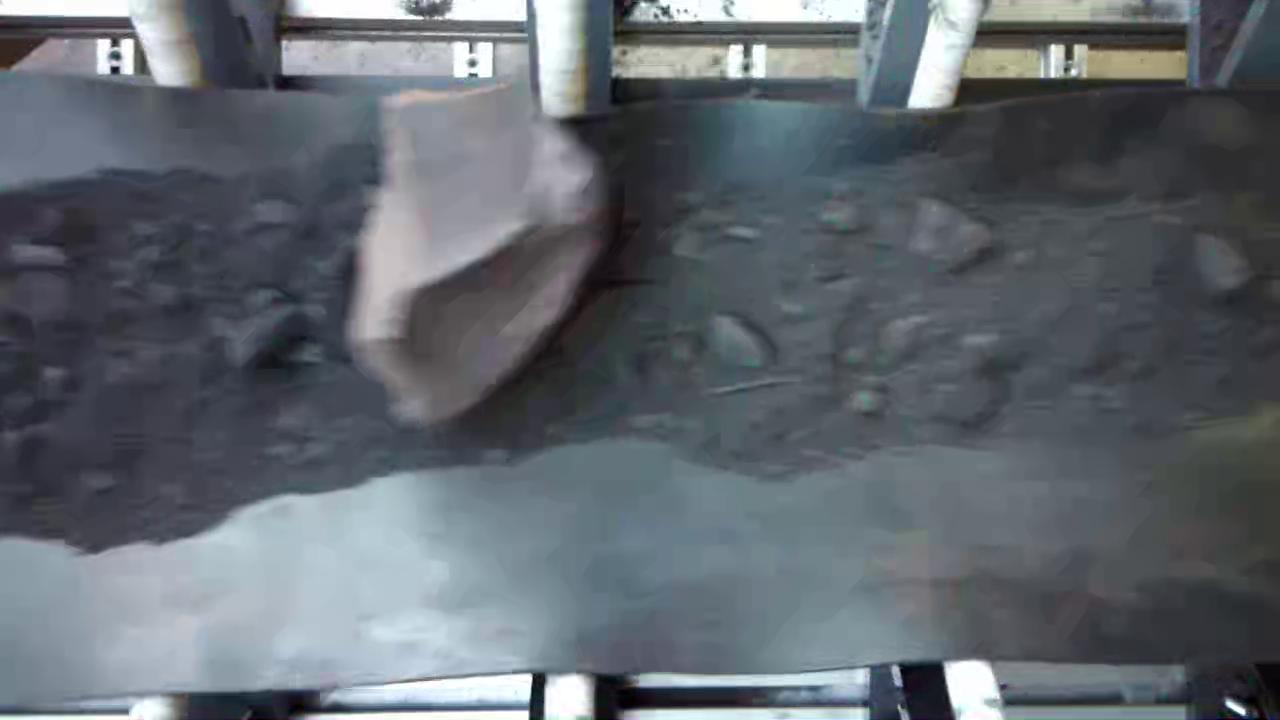conveyor: (1, 98, 1280, 650)
